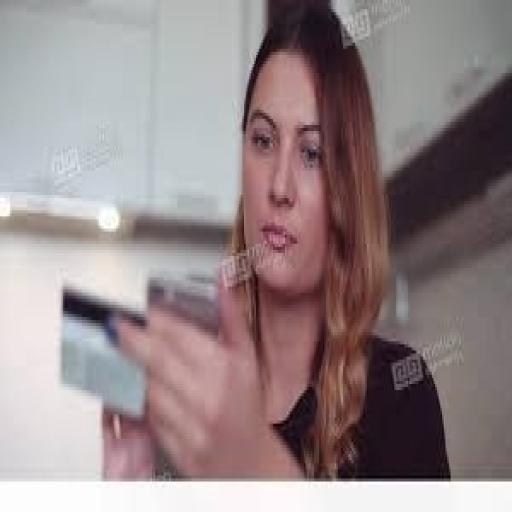texting: (98, 0, 452, 482)
